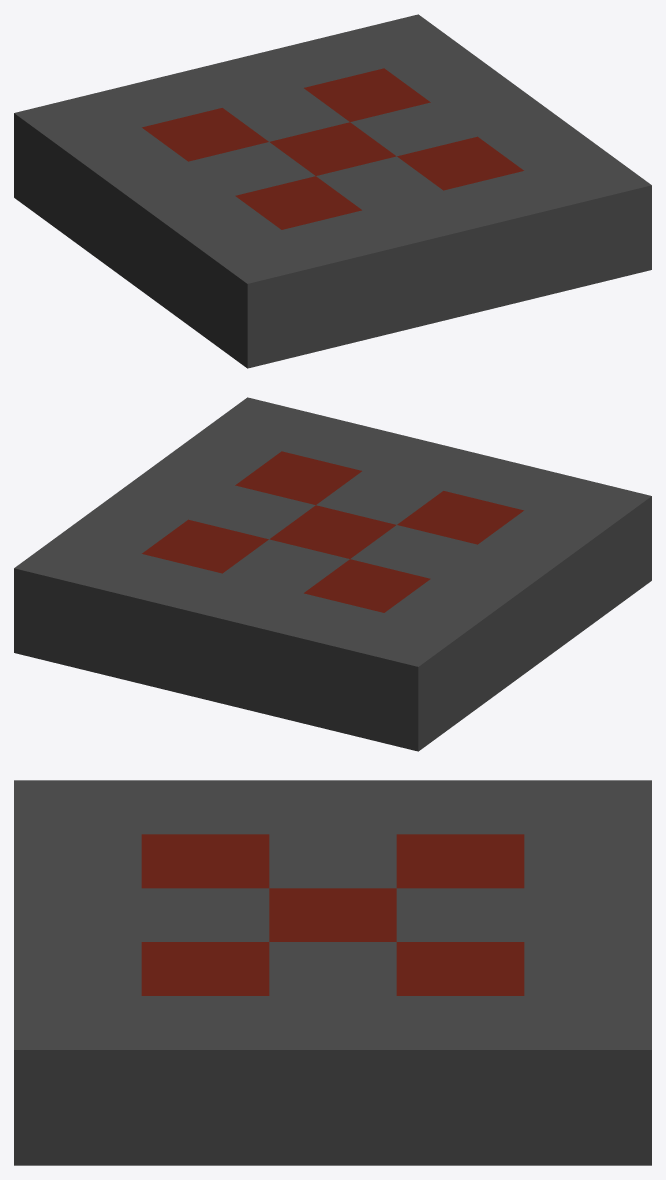
The model's file is MineProp.obj.
3 renders of one model, top to bottom at view 1: azimuth 30°, elevation 25°; view 2: azimuth 150°, elevation 25°; view 3: azimuth 270°, elevation 25°, orthographic. The views are drawn at different scales.
Parts seen in each view (by area): view 1: Untitled; view 2: Untitled; view 3: Untitled.
Boxes of the visible parts, box(x1,y1,x2,y2) form: Untitled: box(14, 14, 651, 368); Untitled: box(14, 397, 651, 751); Untitled: box(14, 780, 651, 1165).
Bounding box in the file's own units: 0.5 × 0.1 × 0.5.
